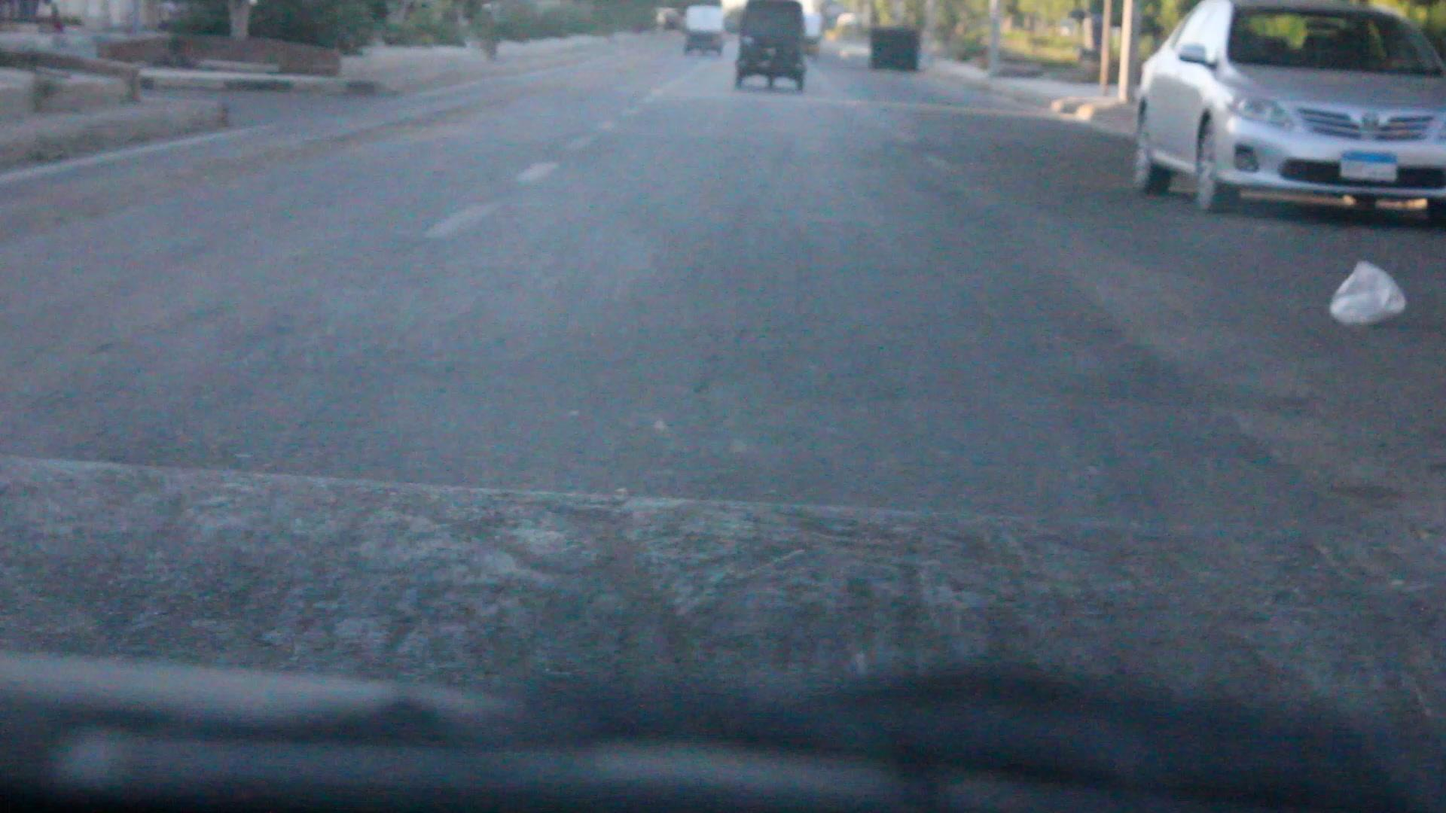Bump: (0, 444, 1445, 784)
